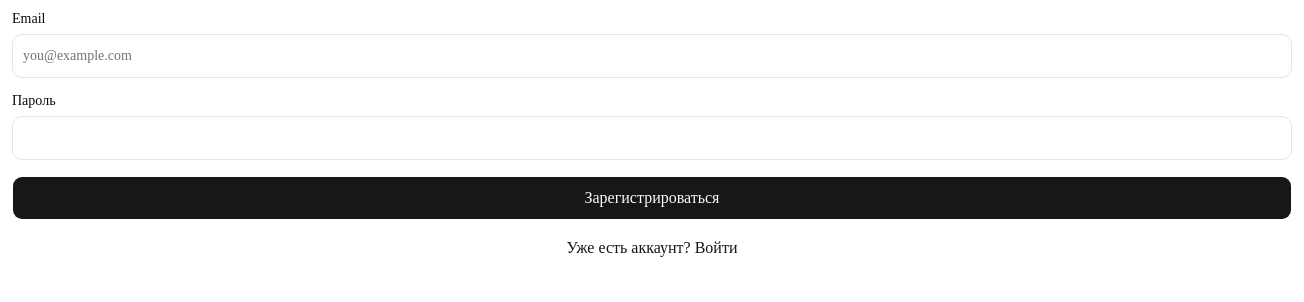
Test: RegisterForm › показывает «Пароль должен содержать минимум 8 символов» при коротком пароле
Type "user@example.com" into the field labelled "Email" at (652, 56), box [12,34,1292,78]
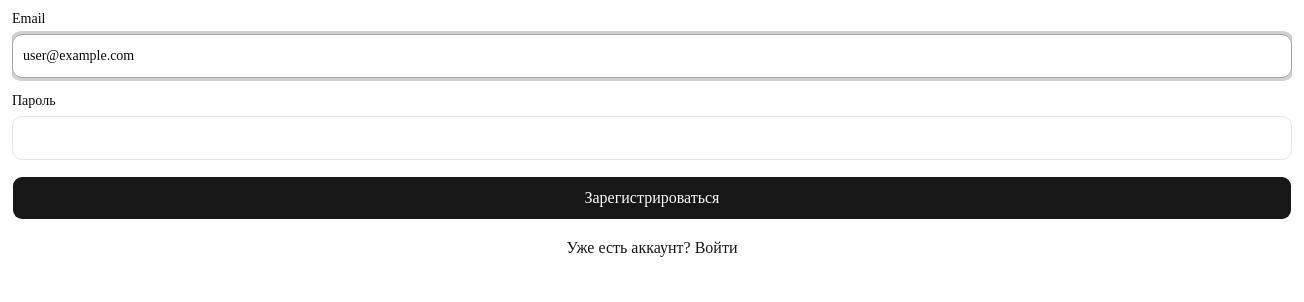
Type "short" into the password field labelled "Пароль" at (652, 138), box [12,116,1292,160]
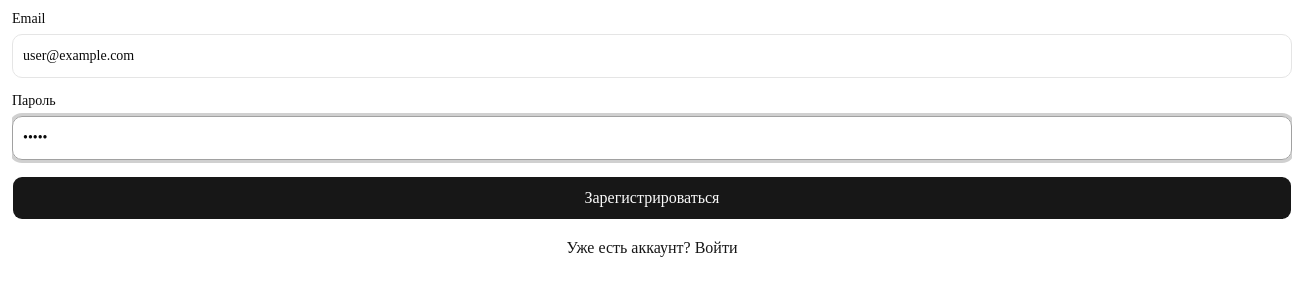
Click the button "Зарегистрироваться" at (652, 198), box [12,176,1292,220]
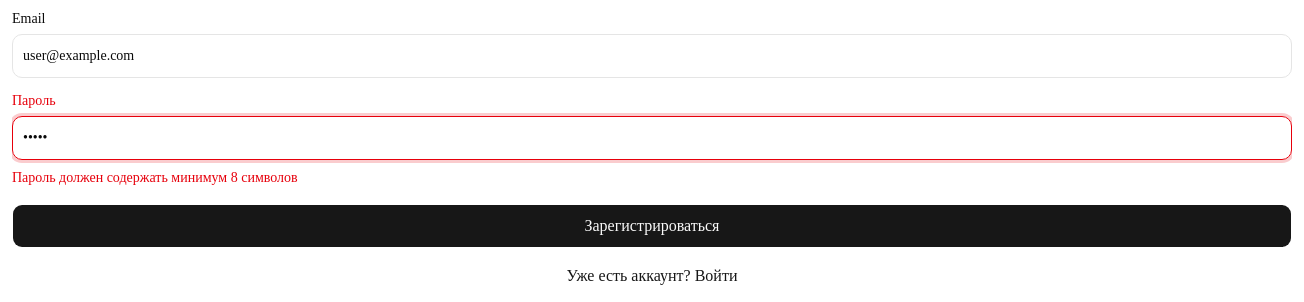
Now the text "Пароль должен содержать минимум 8 символов" is shown, box [12,170,298,185]
